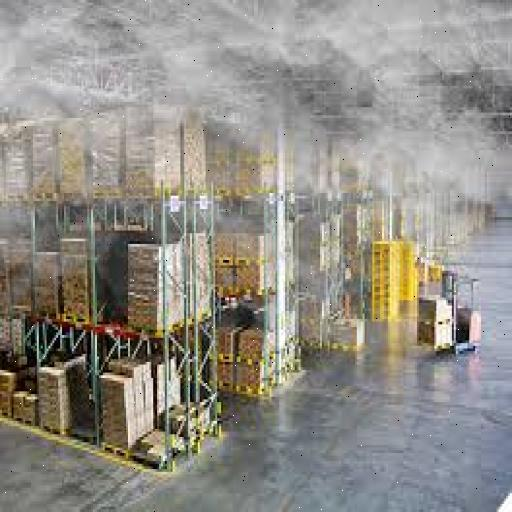smoke: (2, 8, 502, 236)
